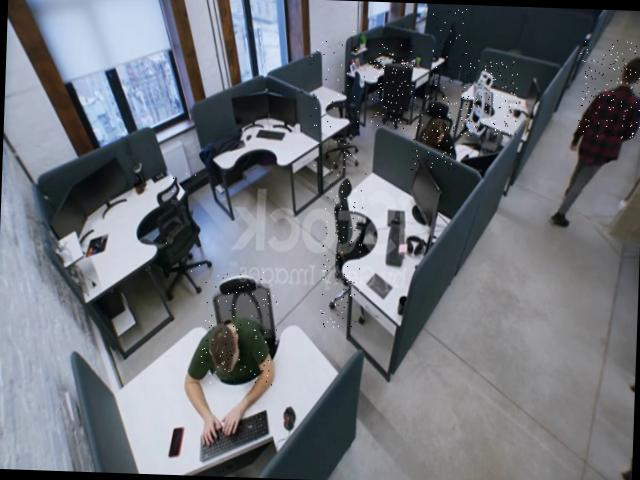empty chair: (306, 28, 372, 176), (320, 182, 364, 330), (156, 172, 204, 306), (460, 60, 518, 138), (370, 44, 416, 129), (431, 4, 472, 92)
occupiedchair: (200, 270, 278, 388), (411, 96, 458, 172)
